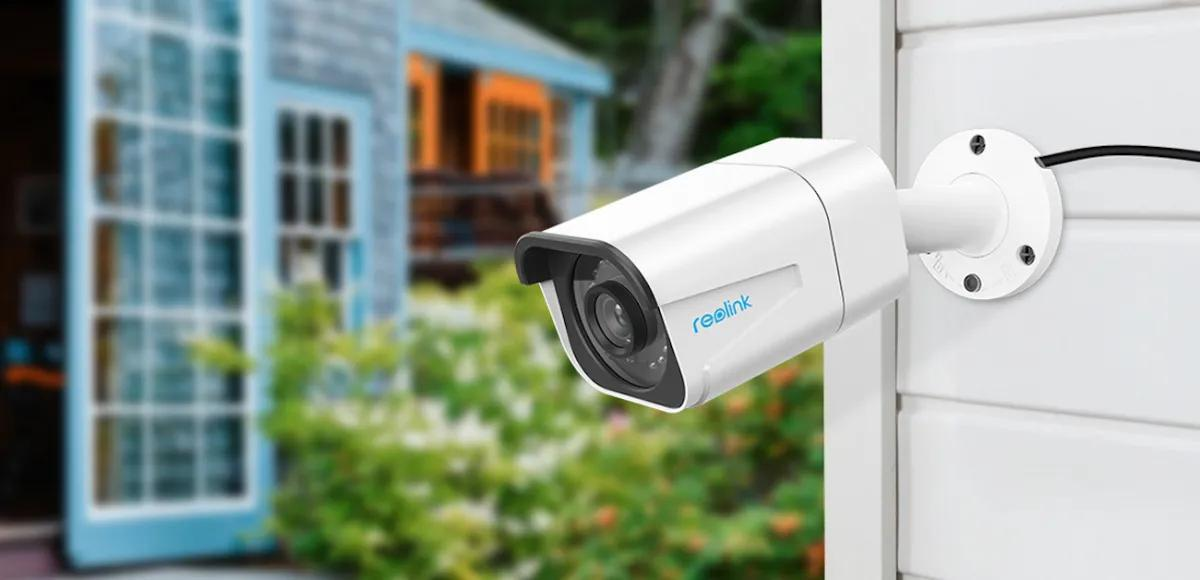camera: (494, 87, 950, 474)
